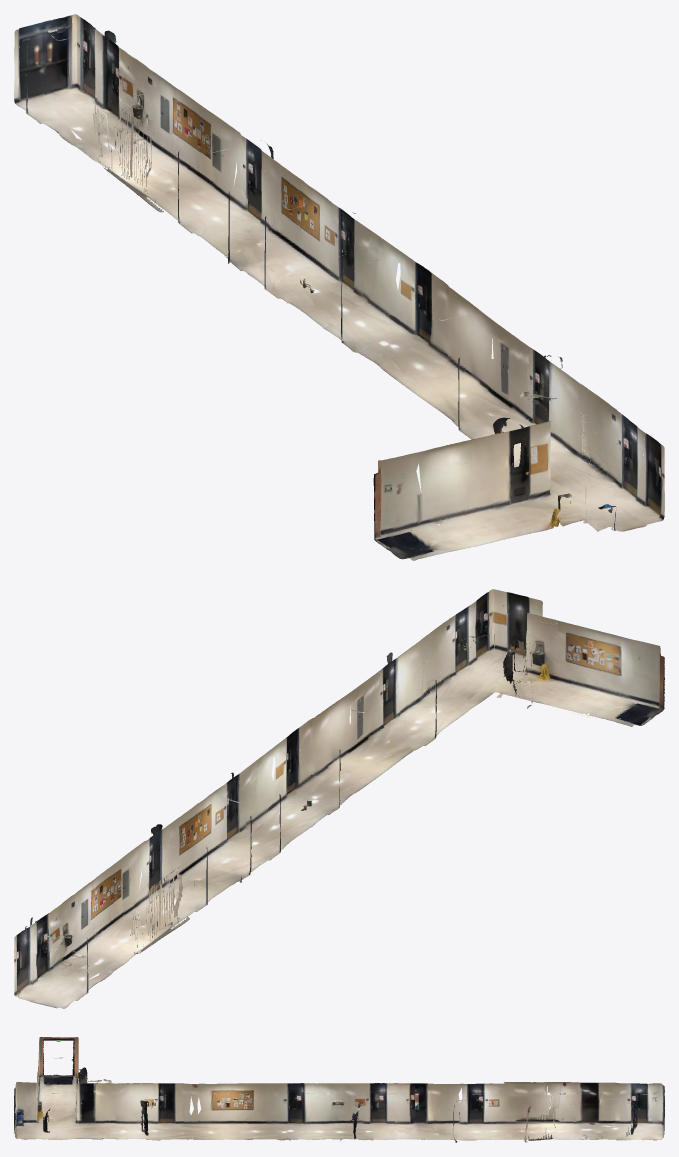
Rendered from right1.glb.
The picture shows the model from 3 angles, top to bottom: view 1: azimuth 30°, elevation 25°; view 2: azimuth 150°, elevation 25°; view 3: azimuth 270°, elevation 25°; orthographic projection. The views are drawn at different scales.
Parts seen in each view (by area): view 1: right1_F1; view 2: right1_F1; view 3: right1_F1.
Part boxes in pixels (<box>): right1_F1: <box>14,14,664,560</box>; right1_F1: <box>14,589,664,1008</box>; right1_F1: <box>14,1037,664,1142</box>.
Size of the model in its own units: 9.31 by 3.12 by 37.74.
1 material, 1 textured.
